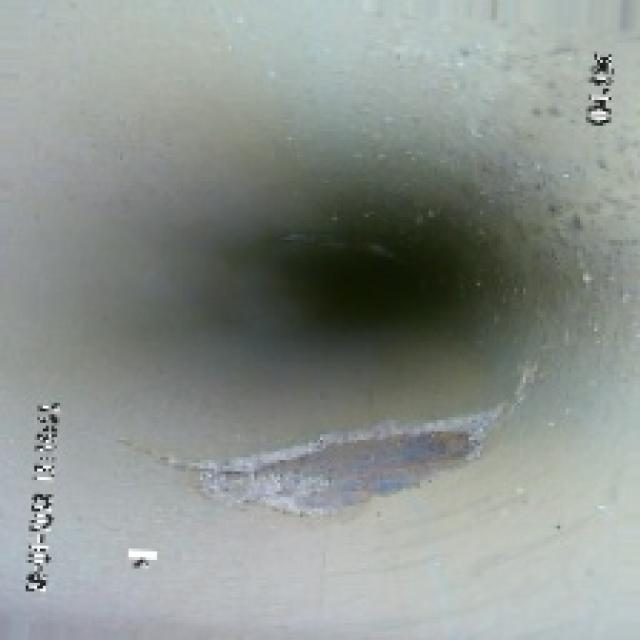pipe_surface_damage: (174, 423, 509, 503)
